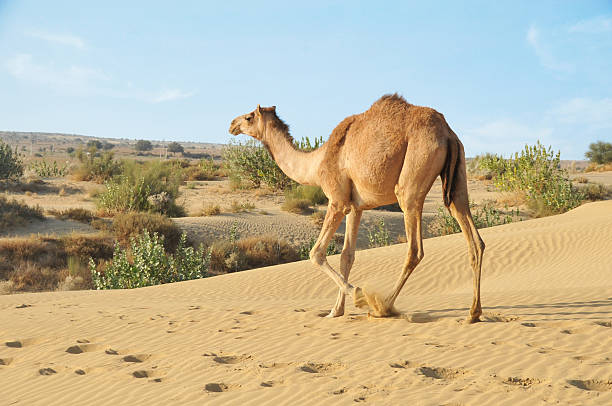animal_footprint: (417, 366, 467, 379), (567, 379, 611, 391), (299, 362, 344, 373), (65, 343, 103, 353), (503, 377, 541, 387), (204, 382, 240, 392), (213, 356, 248, 363), (123, 354, 151, 362), (39, 368, 56, 375), (391, 361, 410, 367), (133, 370, 148, 377), (0, 357, 11, 364), (6, 341, 21, 346), (262, 381, 273, 386), (76, 369, 85, 374)
